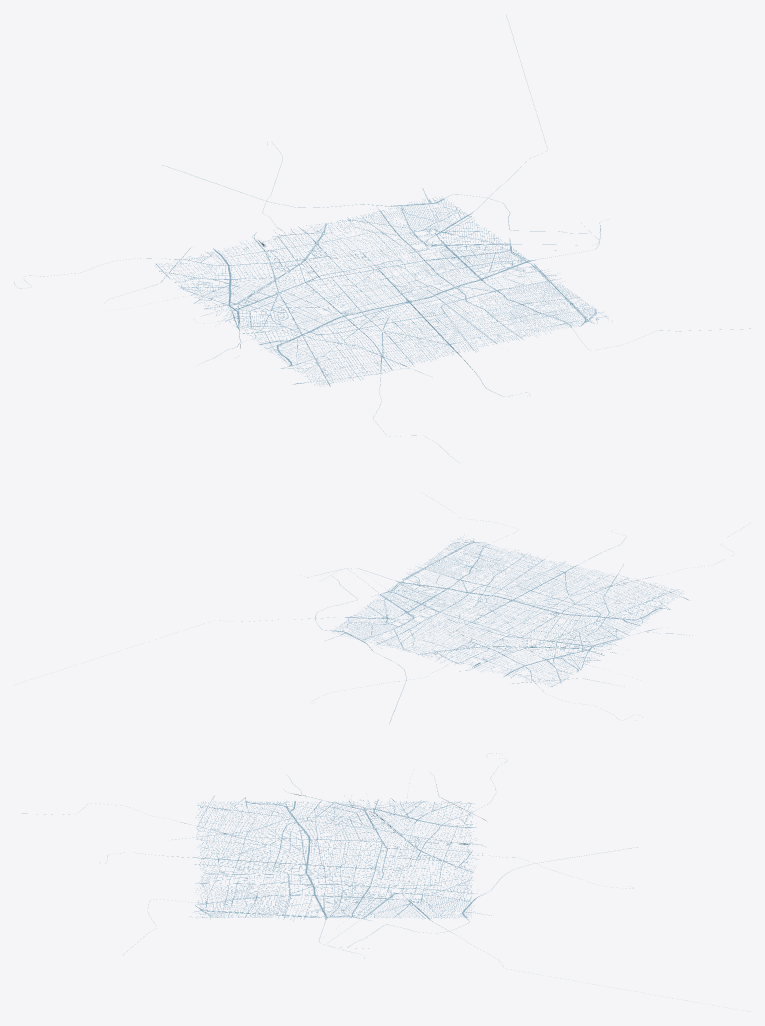
Rendered from roads.glb.
The picture shows the model from 3 angles, top to bottom: view 1: azimuth 30°, elevation 25°; view 2: azimuth 150°, elevation 25°; view 3: azimuth 270°, elevation 25°; orthographic projection. The views are drawn at different scales.
Visible parts, largest first — view 1: roads; view 2: roads; view 3: roads.
Part boxes in pixels (box(x1,y1,x2,y2)): roads: box(14, 15, 750, 462); roads: box(220, 495, 749, 724); roads: box(21, 753, 750, 1011).
Size of the model in its own units: 20215 by 62.38 by 24332.
